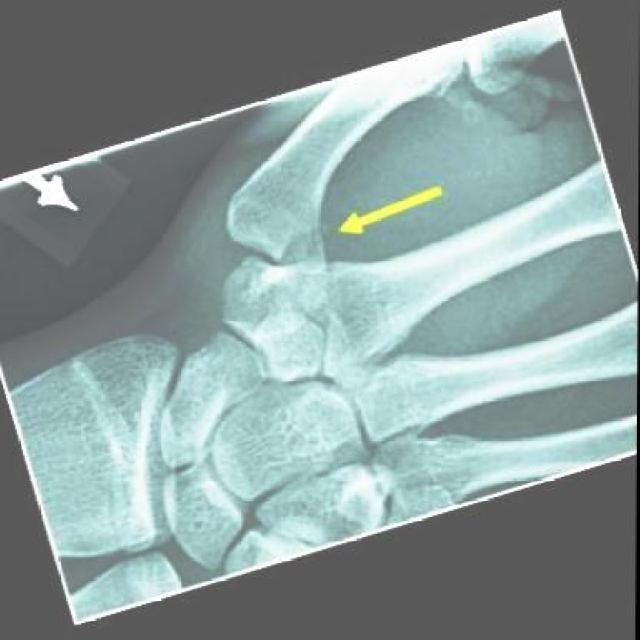Fracture: (260, 211, 358, 296)
